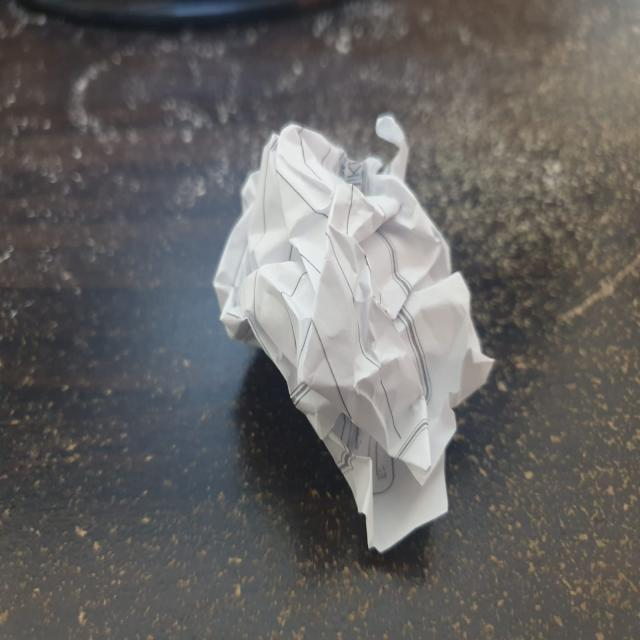Paper: (215, 112, 494, 550)
